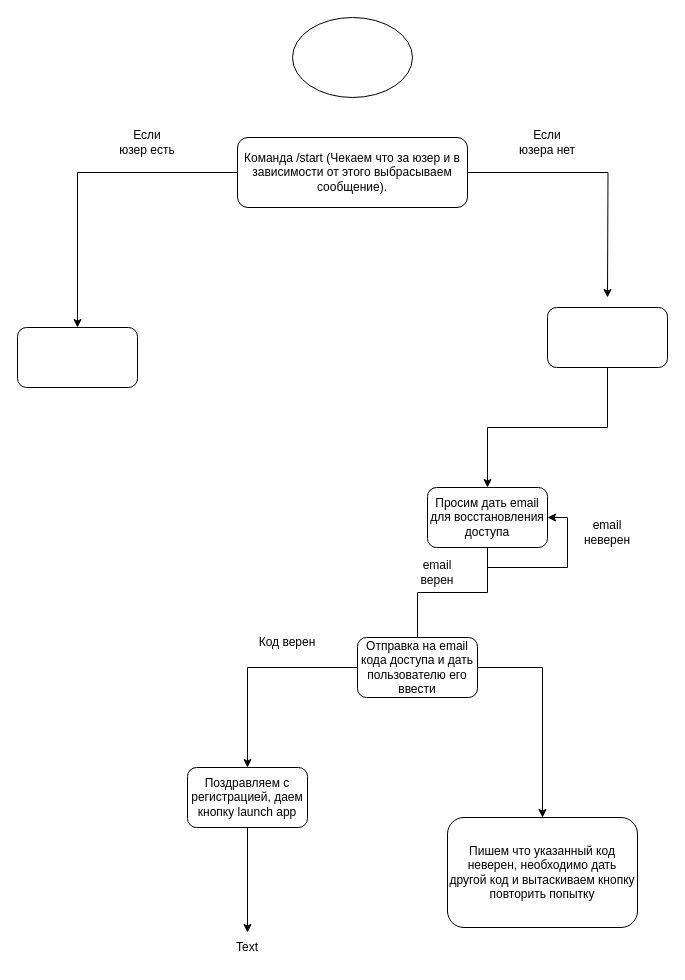
This 685x980 diagram has some shape labels left out. Here are the shapes that lost their labels. From the top down, the centre of each, then its label:
[352,57]: Команда /start
[77,357]: Выбрасываем кнопку launch app
[607,337]: Выбрасываем кнопку создать юзера
